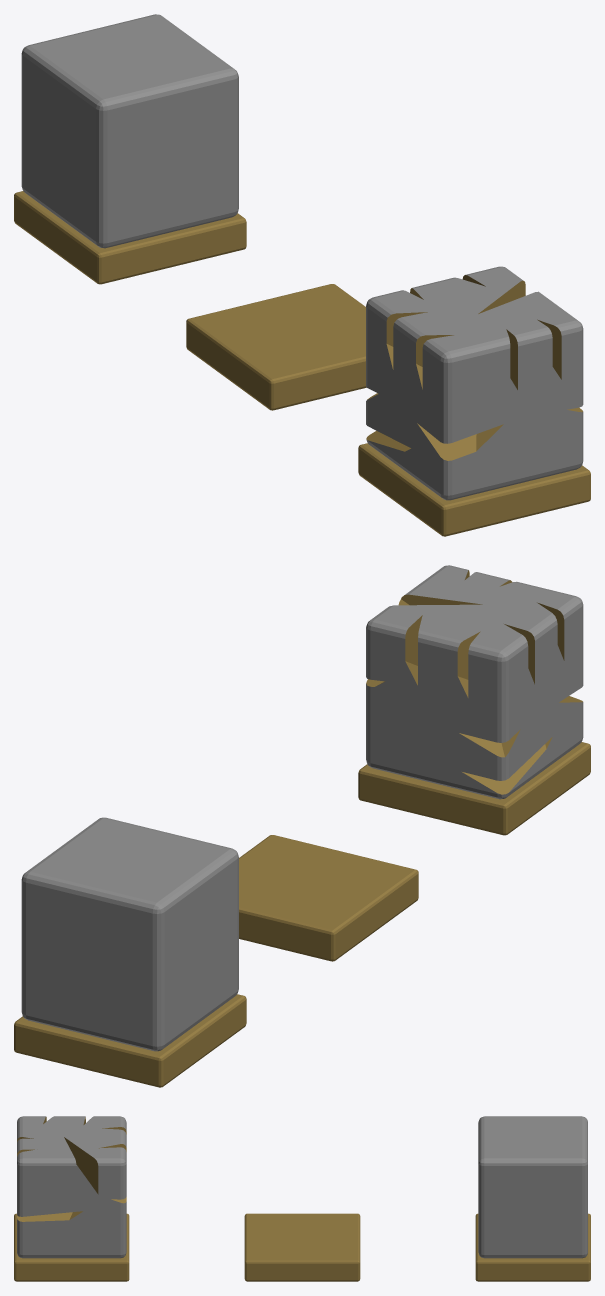
The model's file is tileset.glb.
3 renders of one model, top to bottom at view 1: azimuth 30°, elevation 25°; view 2: azimuth 150°, elevation 25°; view 3: azimuth 270°, elevation 25°, orthographic. The views are drawn at different scales.
Visible parts, largest first — view 1: tile_block-col, tile_brittle_block-col, tile-col; view 2: tile_block-col, tile_brittle_block-col, tile-col; view 3: tile_block-col, tile_brittle_block-col, tile-col.
Boxes of the visible parts, x1,y1,x2,y2 form: tile_block-col: (14,14,246,284); tile_brittle_block-col: (358,266,590,536); tile-col: (186,284,366,410); tile_block-col: (14,817,246,1087); tile_brittle_block-col: (358,565,590,835); tile-col: (239,835,418,961); tile_block-col: (475,1116,590,1281); tile_brittle_block-col: (14,1116,129,1281); tile-col: (244,1213,360,1281).
Bounding box in the file's own units: 1 × 1.15 × 5.
